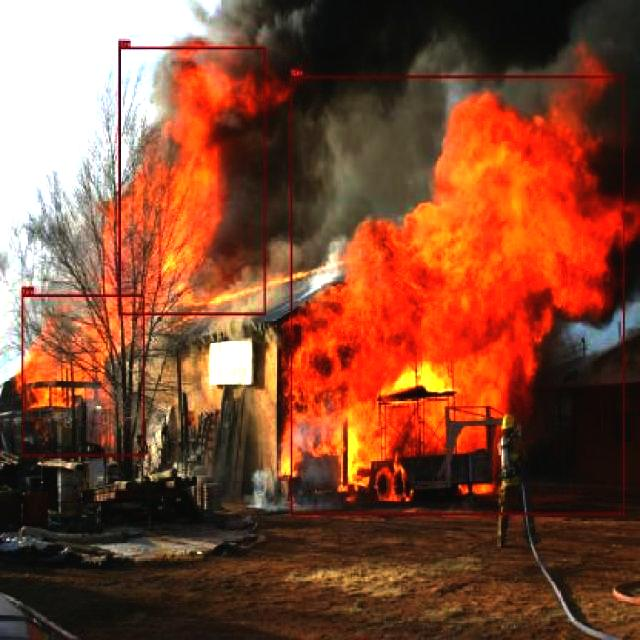fire: (290, 74, 624, 514), (117, 47, 266, 315), (22, 294, 144, 456)
